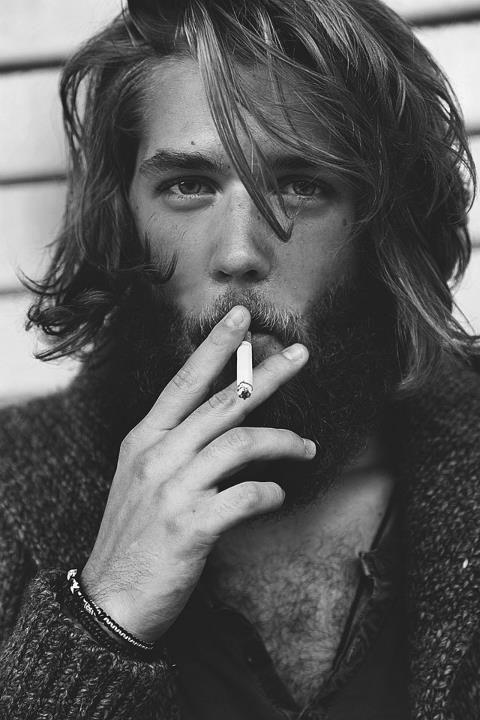cigarette: (237, 330, 253, 401)
